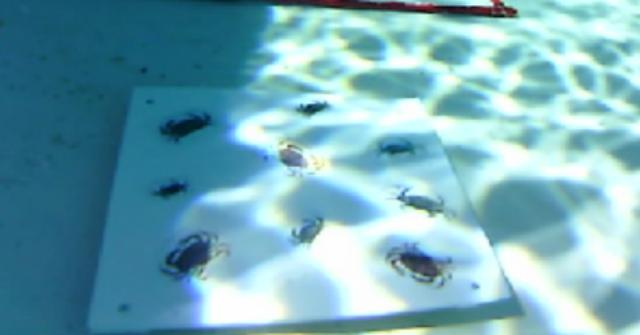crab: (145, 104, 225, 148), (160, 232, 229, 279), (271, 209, 335, 258), (387, 243, 451, 287), (389, 183, 455, 220), (140, 167, 195, 203), (275, 141, 323, 174), (289, 95, 340, 126), (371, 136, 423, 158)
